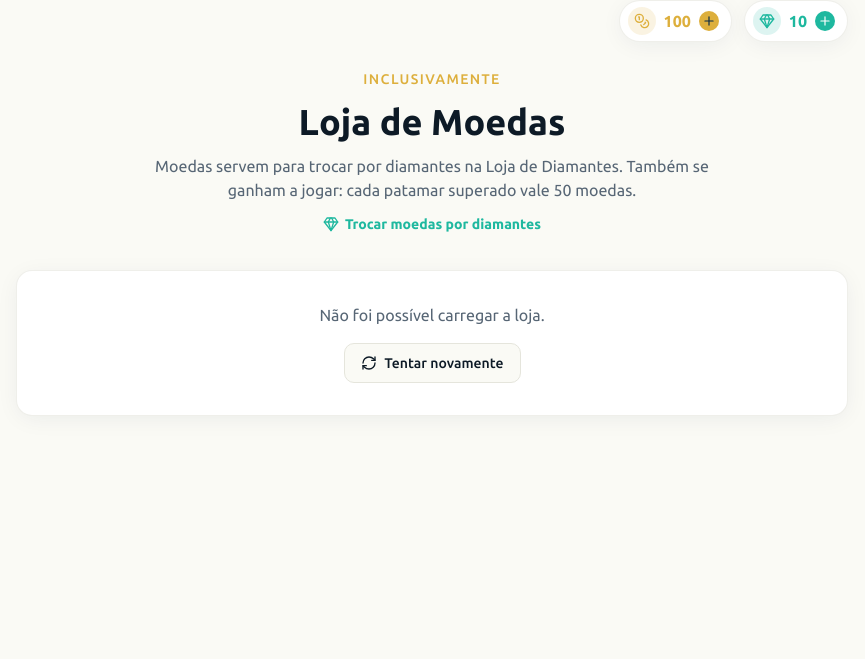
Test: LojaMoedas › se a loja não carregar, mostra erro com opção de tentar outra vez
Click the button "Tentar novamente" at (432, 363), box left=344, top=343, right=520, bottom=383
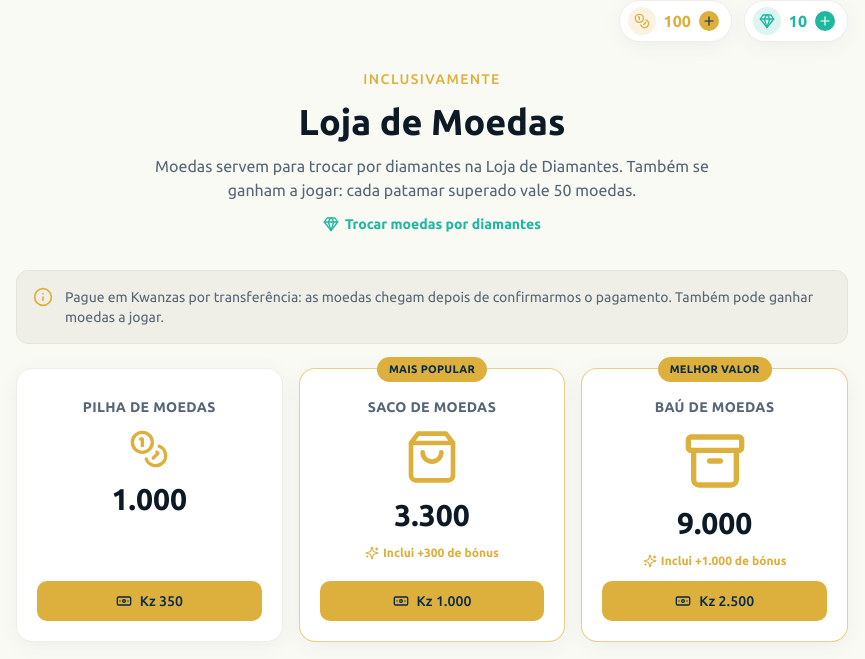
Result: the element with test id "pacote-bau" is shown at left=581, top=368, right=848, bottom=642
